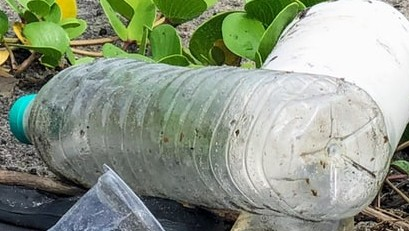garbage: (12, 59, 409, 229)
